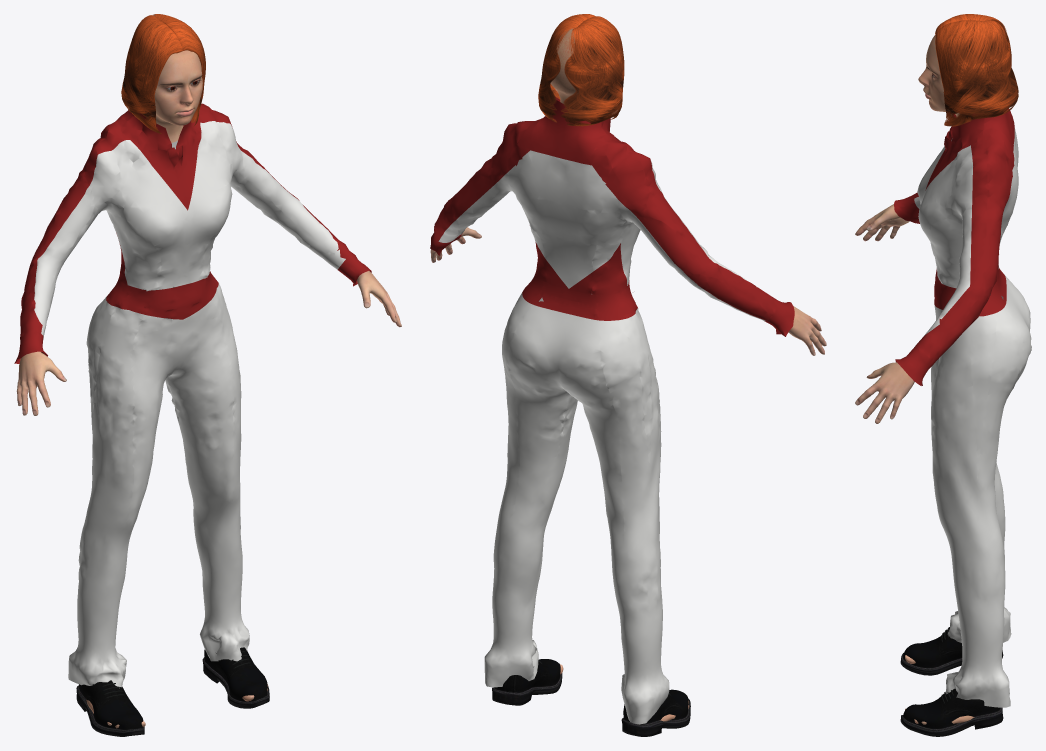
File: astronavigator_suit.glb
3 views of the same model, side by side, from view 1: azimuth 30°, elevation 25°; view 2: azimuth 150°, elevation 25°; view 3: azimuth 270°, elevation 25° (orthographic). The views are drawn at different scales.
Parts seen in each view (by area): view 1: X_Coverall, X_body, X_shoes03, X_toigo_curled_under_bob; view 2: X_Coverall, X_toigo_curled_under_bob, X_shoes03, X_body; view 3: X_Coverall, X_toigo_curled_under_bob, X_shoes03, X_body.
Boxes of the visible parts, x1,y1,x2,y2 form: X_Coverall: (14, 103, 371, 688); X_body: (16, 50, 401, 728); X_shoes03: (76, 647, 269, 736); X_toigo_curled_under_bob: (121, 14, 205, 133); X_Coverall: (430, 97, 794, 724); X_toigo_curled_under_bob: (538, 14, 624, 126); X_shoes03: (492, 659, 690, 736); X_body: (430, 28, 826, 721); X_Coverall: (894, 108, 1031, 707); X_toigo_curled_under_bob: (935, 14, 1018, 126); X_shoes03: (900, 627, 1003, 736); X_body: (855, 35, 974, 724).
Size of what is drawn, in the model's own units: 1.03 by 1.78 by 0.4188.
8 materials, 6 textured.
